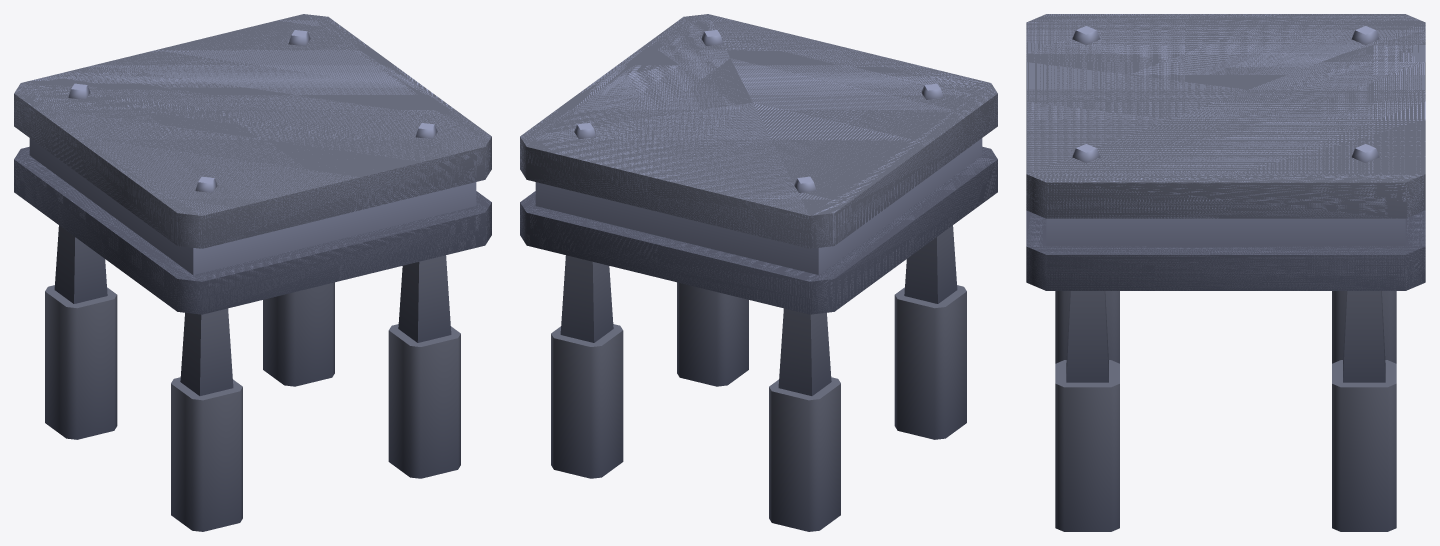
Rendered from structure-metal-floor.glb.
3 views of the same model, side by side, from view 1: azimuth 30°, elevation 25°; view 2: azimuth 150°, elevation 25°; view 3: azimuth 270°, elevation 25° (orthographic). The views are drawn at different scales.
Parts seen in each view (by area): view 1: structure-metal-floor; view 2: structure-metal-floor; view 3: structure-metal-floor.
Boxes of the visible parts, box(x1,y1,x2,y2) form: structure-metal-floor: box(14, 14, 491, 531); structure-metal-floor: box(520, 14, 997, 531); structure-metal-floor: box(1026, 14, 1425, 531).
Bounding box in the file's own units: 0.5 × 0.5125 × 0.5.
